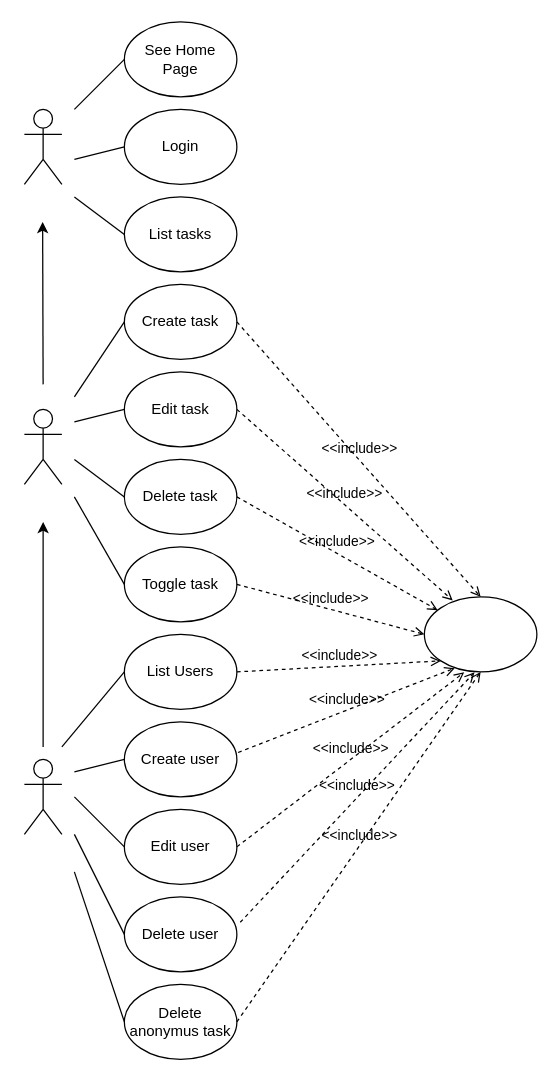
This 559x1081 diagram has some shape labels left out. The shapes that lost their labels are listed below. From the top down, each one's centre as x and y in pixels, then its label:
At pixel 42 146: "Visitor".
At pixel 42 446: "User".
At pixel 480 634: "Authentication".
At pixel 42 796: "Admin".
